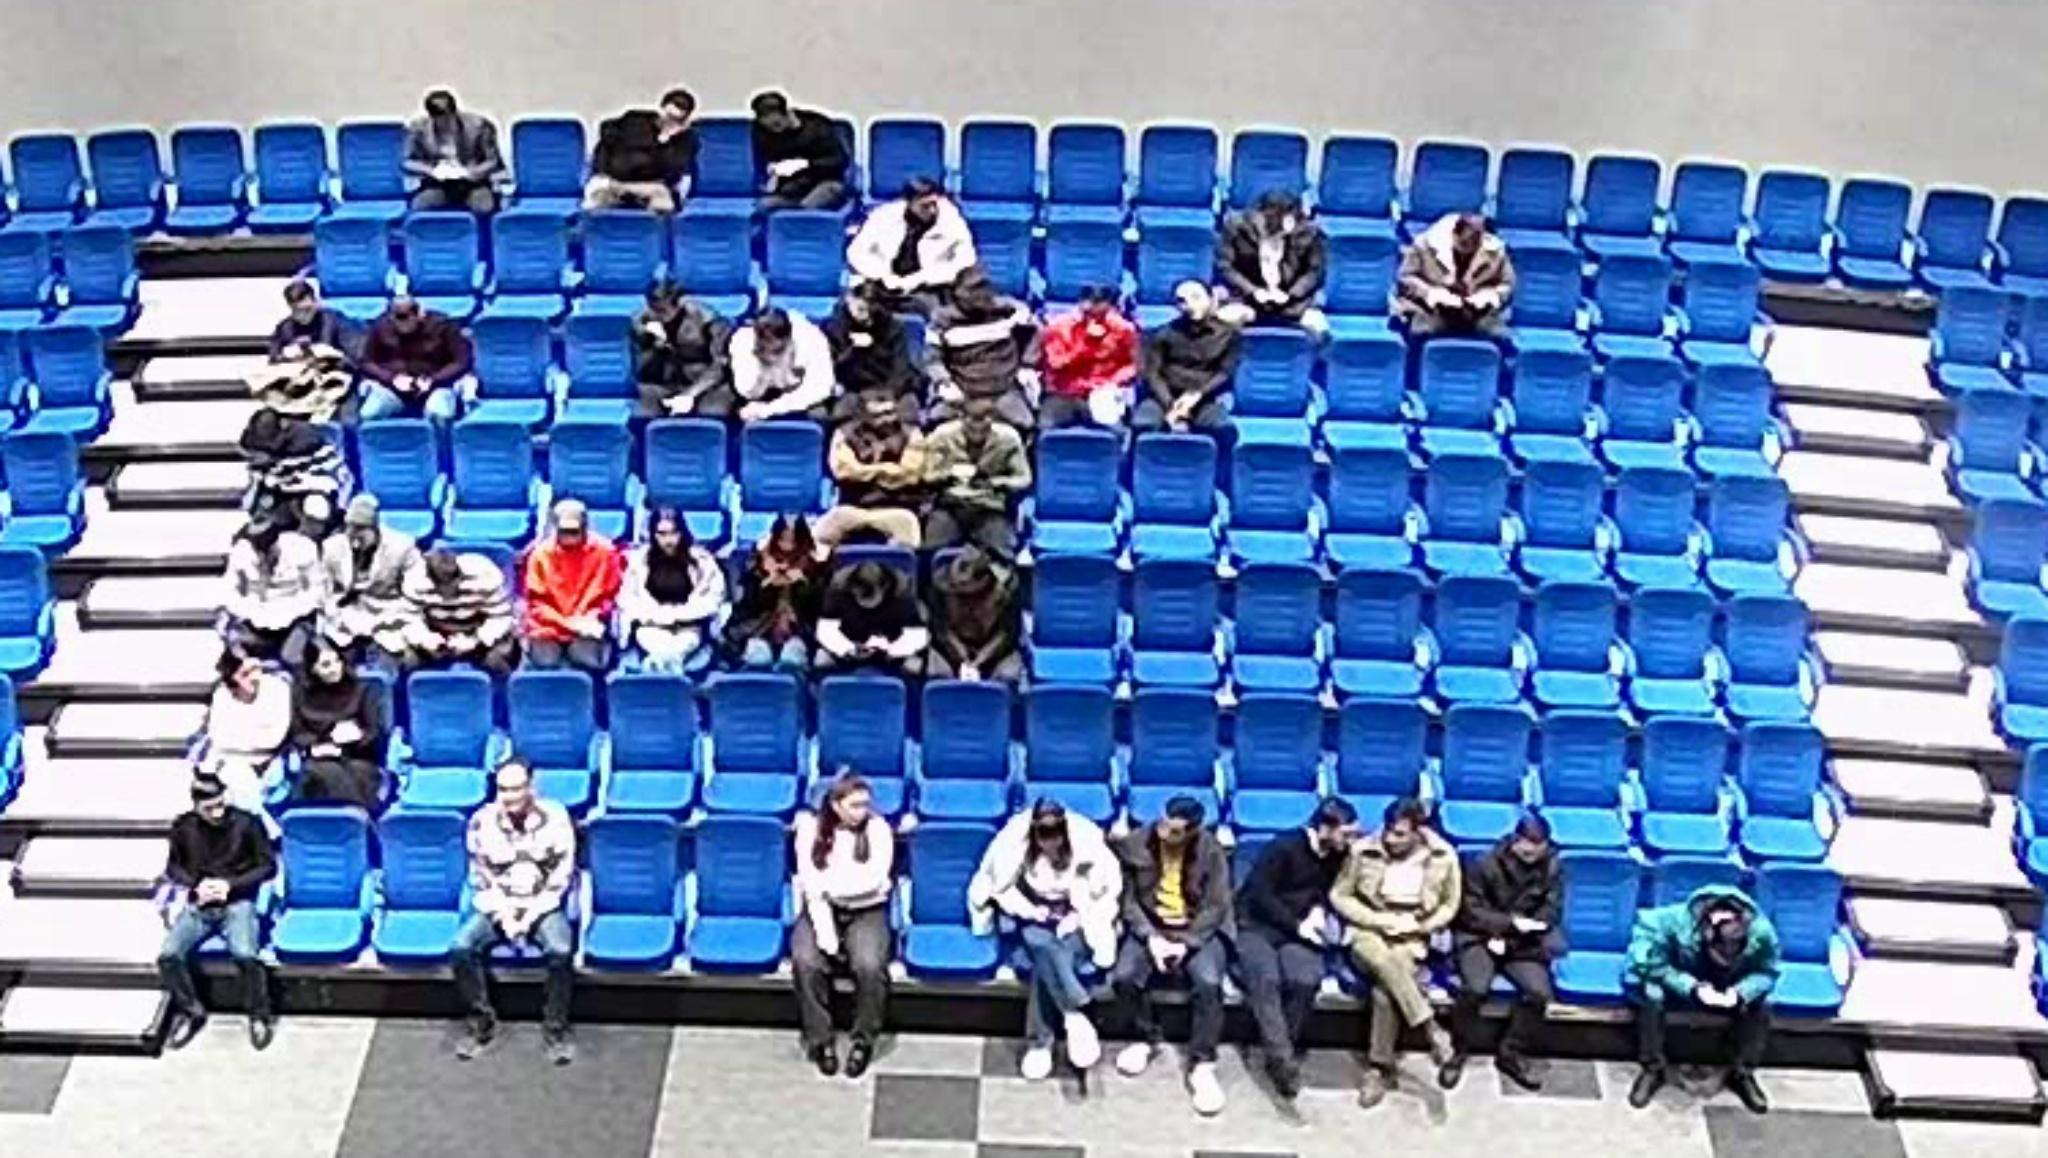empty: (900, 820, 1011, 984), (684, 809, 786, 976), (1747, 863, 1857, 1010), (578, 815, 684, 962), (1539, 848, 1644, 996), (276, 803, 374, 961), (371, 808, 471, 955), (817, 670, 914, 819), (1633, 712, 1733, 854), (1016, 682, 1117, 822), (395, 668, 494, 810), (1532, 708, 1633, 846), (702, 670, 803, 808), (1225, 692, 1329, 826), (916, 677, 1016, 816), (1440, 699, 1536, 844), (601, 668, 700, 806), (1730, 719, 1830, 855), (1431, 571, 1532, 702), (1333, 695, 1432, 829), (1318, 443, 1418, 574), (1618, 581, 1717, 711), (1715, 590, 1815, 718), (505, 664, 599, 799), (1329, 563, 1428, 691), (1225, 436, 1322, 566), (1127, 554, 1222, 684), (1528, 575, 1622, 706), (1227, 559, 1325, 682), (1127, 684, 1225, 808), (447, 415, 539, 547), (1031, 428, 1124, 554), (1699, 470, 1795, 592), (1027, 552, 1122, 674), (1961, 492, 2048, 625), (1421, 443, 1513, 567), (641, 416, 731, 543), (353, 418, 442, 546), (543, 416, 632, 545), (1128, 433, 1218, 559), (738, 418, 828, 543), (1609, 463, 1703, 583), (1516, 452, 1612, 566), (1231, 322, 1322, 440), (1505, 341, 1595, 459), (1945, 383, 2037, 497), (1319, 328, 1408, 445), (1824, 174, 1916, 287), (1746, 166, 1837, 277), (1928, 274, 2017, 388), (1907, 184, 1996, 298), (17, 321, 113, 426), (1581, 245, 1675, 352), (470, 307, 561, 416), (84, 127, 176, 235), (1416, 336, 1504, 449), (1594, 348, 1688, 452), (1497, 238, 1585, 348), (561, 304, 644, 419), (0, 425, 83, 540), (166, 124, 246, 241), (1685, 355, 1775, 456), (46, 222, 135, 324), (762, 207, 851, 307), (1672, 252, 1760, 352), (312, 210, 398, 310), (248, 121, 326, 229), (397, 208, 484, 305), (1317, 228, 1402, 326), (577, 208, 670, 298), (487, 207, 575, 301), (1575, 153, 1664, 246), (1667, 159, 1753, 255), (670, 208, 758, 300), (1041, 217, 1127, 311), (1132, 219, 1221, 310), (1491, 146, 1577, 239), (333, 118, 415, 215), (958, 120, 1041, 212), (1405, 138, 1492, 225), (1315, 134, 1401, 221), (1047, 121, 1128, 212), (509, 115, 589, 208), (1135, 124, 1218, 212), (682, 113, 762, 204), (8, 131, 87, 224), (866, 117, 949, 204), (1990, 612, 2048, 737), (0, 221, 68, 326), (1227, 128, 1310, 214), (0, 545, 56, 670), (1986, 193, 2048, 303), (956, 219, 1035, 305)
